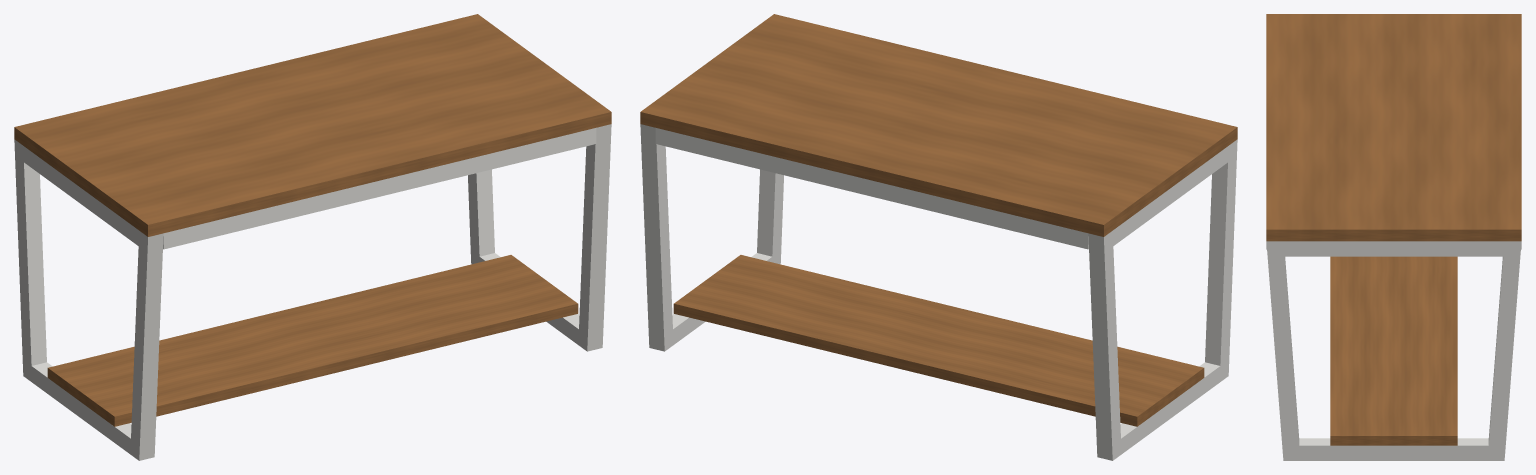
Rendered from mesa-living-nord-estante-roble-blanco-4cm.glb.
The picture shows the model from 3 angles, left to right: view 1: azimuth 30°, elevation 25°; view 2: azimuth 150°, elevation 25°; view 3: azimuth 270°, elevation 25°; orthographic projection. The views are drawn at different scales.
Parts seen in each view (by area): view 1: Tapa de madera maciza 120 x 60 x 3 cm, Estante inferior de madera de 120 cm (proporción aproximada), Patas inclinadas con cortes a inglete, Larguero longitudinal superior de hierro 4 x 4 mm, Travesaño inferior del trapecio, perfil 4 cm (×2), Travesaño superior del trapecio, perfil 4 cm; view 2: Tapa de madera maciza 120 x 60 x 3 cm, Estante inferior de madera de 120 cm (proporción aproximada), Patas inclinadas con cortes a inglete, Larguero longitudinal superior de hierro 4 x 4 mm, Travesaño inferior del trapecio, perfil 4 cm (×2), Travesaño superior del trapecio, perfil 4 cm; view 3: Tapa de madera maciza 120 x 60 x 3 cm, Estante inferior de madera de 120 cm (proporción aproximada), Patas inclinadas con cortes a inglete, Travesaño superior del trapecio, perfil 4 cm, Travesaño inferior del trapecio, perfil 4 cm.
Part boxes in pixels (box(x1,y1,x2,y2)): Tapa de madera maciza 120 x 60 x 3 cm: box(14, 14, 611, 236); Estante inferior de madera de 120 cm (proporción aproximada): box(47, 255, 578, 426); Patas inclinadas con cortes a inglete: box(14, 124, 611, 460); Larguero longitudinal superior de hierro 4 x 4 mm: box(163, 128, 596, 249); Travesaño inferior del trapecio, perfil 4 cm (×2): box(31, 253, 582, 453); Travesaño superior del trapecio, perfil 4 cm: box(23, 146, 142, 246); Tapa de madera maciza 120 x 60 x 3 cm: box(640, 14, 1237, 236); Estante inferior de madera de 120 cm (proporción aproximada): box(673, 255, 1204, 426); Patas inclinadas con cortes a inglete: box(640, 124, 1237, 460); Larguero longitudinal superior de hierro 4 x 4 mm: box(655, 128, 1088, 249); Travesaño inferior del trapecio, perfil 4 cm (×2): box(669, 253, 1224, 453); Travesaño superior del trapecio, perfil 4 cm: box(1108, 146, 1228, 249); Tapa de madera maciza 120 x 60 x 3 cm: box(1266, 14, 1521, 241); Estante inferior de madera de 120 cm (proporción aproximada): box(1330, 256, 1457, 445); Patas inclinadas con cortes a inglete: box(1266, 241, 1521, 460); Travesaño superior del trapecio, perfil 4 cm: box(1275, 241, 1512, 256); Travesaño inferior del trapecio, perfil 4 cm: box(1292, 438, 1495, 460).
Bounding box in the file's own units: 1.2 × 0.6 × 0.6.
2 materials, 1 textured.
